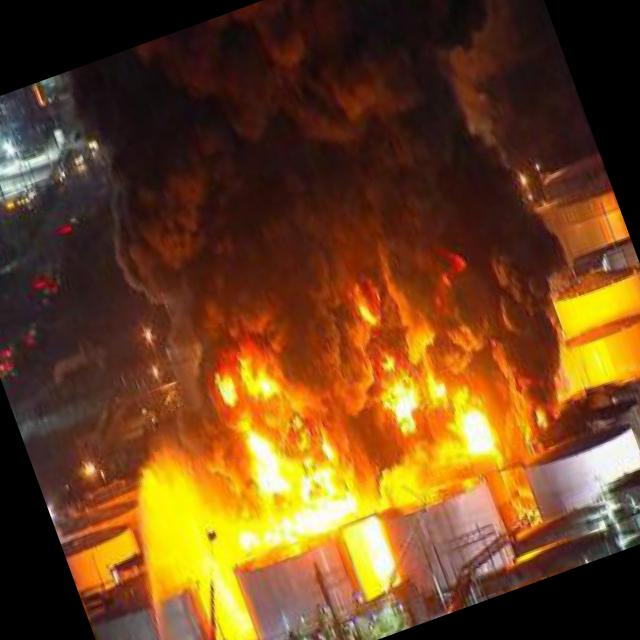fire: (210, 419, 356, 556), (195, 544, 262, 640), (339, 498, 405, 592), (374, 360, 429, 440), (446, 402, 504, 462), (245, 358, 292, 418), (204, 362, 247, 418)
smoke: (33, 0, 640, 517)
